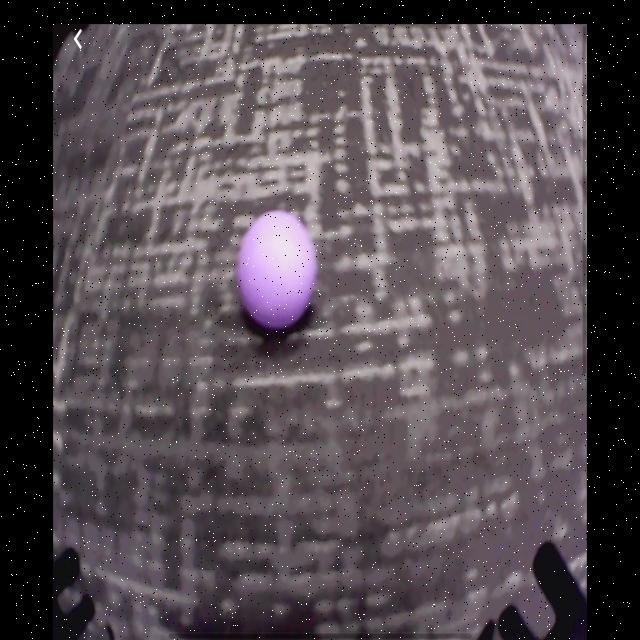ball: (238, 212, 318, 331)
